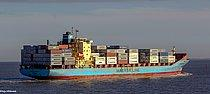Ship: (17, 25, 195, 84)
